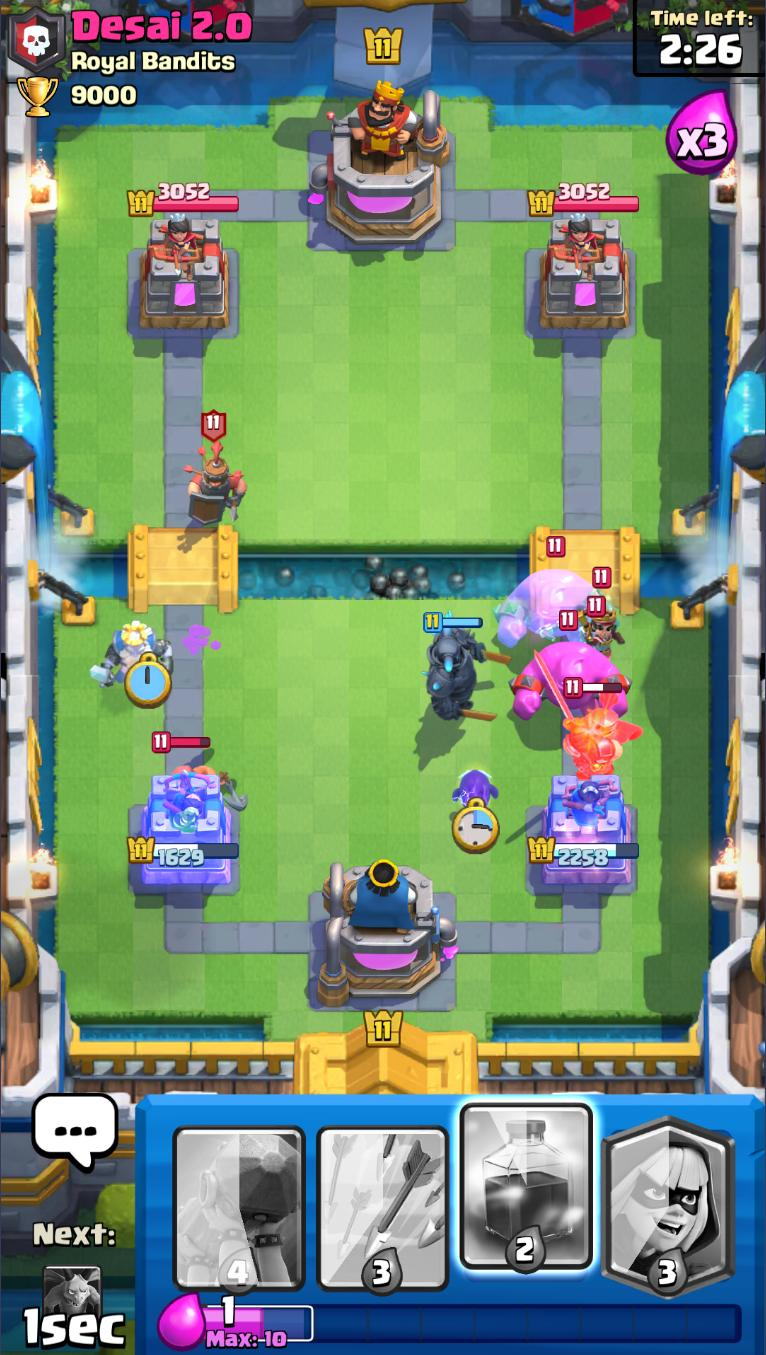ArrowDeck: (311, 1096, 455, 1297)
BanditDeck: (598, 1094, 743, 1296)
BattleRamDeck: (167, 1095, 312, 1295)
Elixir: (202, 1295, 743, 1351)
ElixirGolem: (511, 608, 634, 728)
ElixirGolemCloned: (498, 537, 619, 649)
EnemyTower: (536, 215, 633, 333), (136, 215, 231, 333)
FisherMan: (150, 731, 251, 814)
KingTower: (310, 77, 453, 248)
LittlePrince: (574, 598, 627, 656)
LittlePrinceGuard: (533, 647, 632, 780)
MinionsNext: (42, 1264, 104, 1342)
MyElectroSpirit: (451, 764, 500, 810)
MyKingTower: (316, 858, 459, 1009)
MyPekka: (422, 610, 511, 724)
MyPrincessTower: (527, 770, 642, 890), (127, 770, 241, 888)
MyPrincessTowerHP: (127, 835, 240, 869), (526, 835, 640, 868)
MyRoyaleGhost: (89, 621, 176, 691)
PrincessTower: (550, 214, 605, 276), (151, 215, 206, 275)
RageDeck: (455, 1096, 598, 1299)
RoyalRecruit: (181, 411, 249, 530)
TowerPrincessHP: (527, 180, 641, 217), (126, 182, 240, 219)
